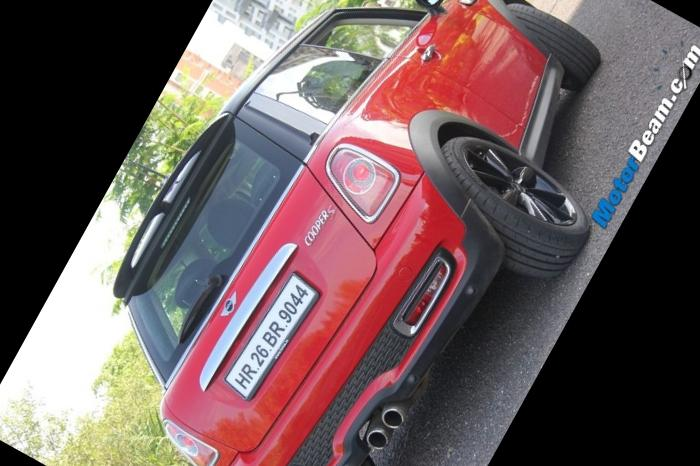plate: (211, 239, 354, 415)
